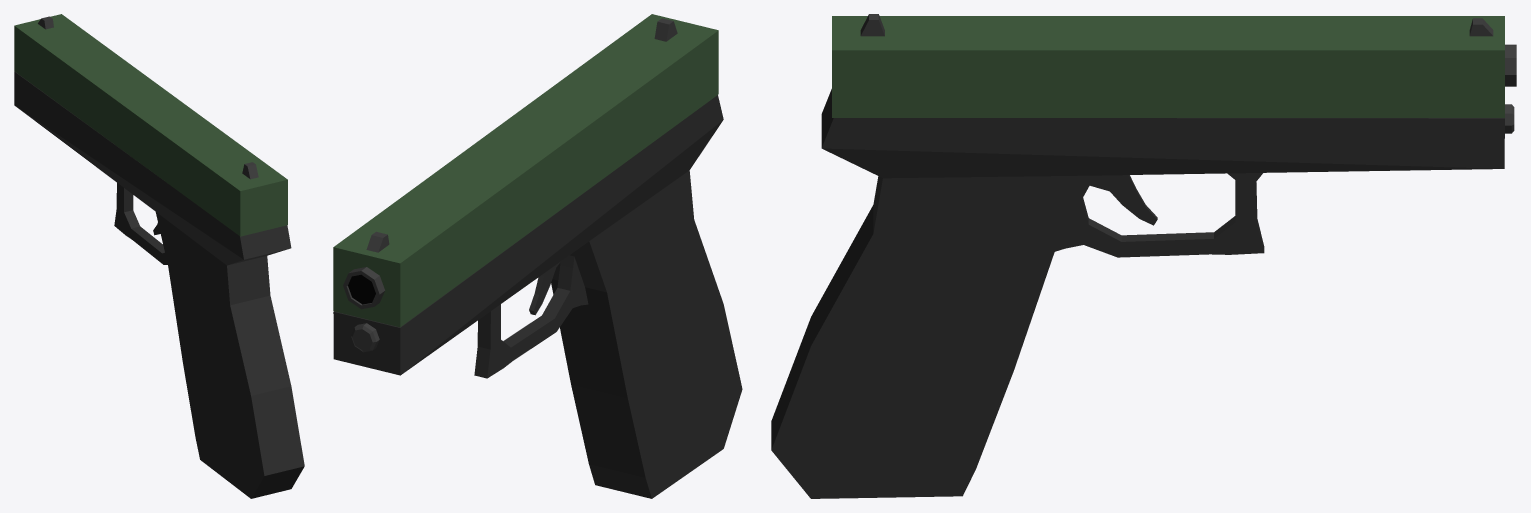
The model's file is scene_Xmtib5QJii.glb.
The picture shows the model from 3 angles, left to right: view 1: azimuth 30°, elevation 25°; view 2: azimuth 150°, elevation 25°; view 3: azimuth 270°, elevation 25°; orthographic projection. The views are drawn at different scales.
Parts seen in each view (by area): view 1: Glock_Base, Glock_Barrel; view 2: Glock_Base, Glock_Barrel, Glock_Trigger; view 3: Glock_Base, Glock_Barrel, Glock_Trigger.
Boxes of the visible parts, <box> form: Glock_Base: <box>14,71,304,498</box>; Glock_Barrel: <box>14,14,287,236</box>; Glock_Base: <box>333,95,742,498</box>; Glock_Barrel: <box>333,14,718,327</box>; Glock_Trigger: <box>529,261,560,315</box>; Glock_Base: <box>771,89,1514,498</box>; Glock_Barrel: <box>832,14,1516,117</box>; Glock_Trigger: <box>1090,175,1157,225</box>.
Size of the model in its own units: 0.0454 by 0.2876 by 0.4157.
